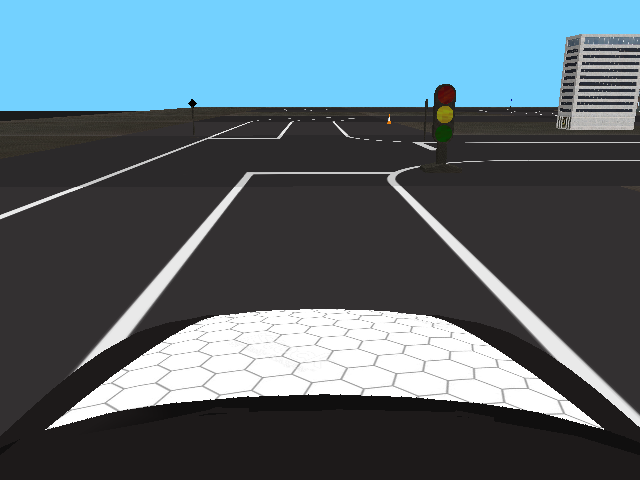yellow_light: (432, 84, 456, 142)
